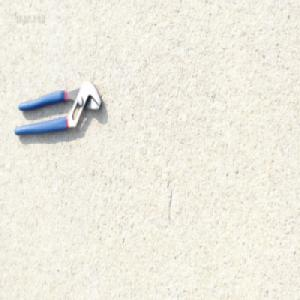Pliers: (14, 77, 104, 136)
